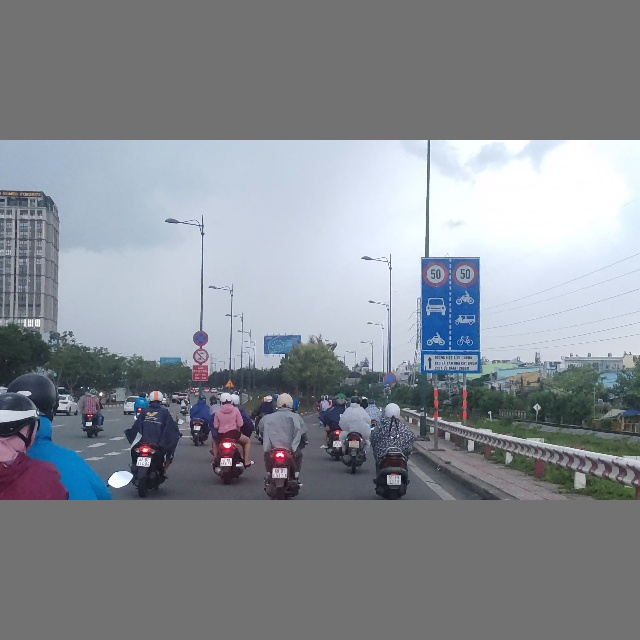P.111: (193, 348, 209, 363)
P.127*50: (421, 259, 449, 287), (451, 259, 479, 287)
P.130: (193, 331, 209, 346)
P.131a: (385, 372, 396, 385)
R.415a: (421, 288, 480, 351)
W.201a: (225, 378, 235, 387)
